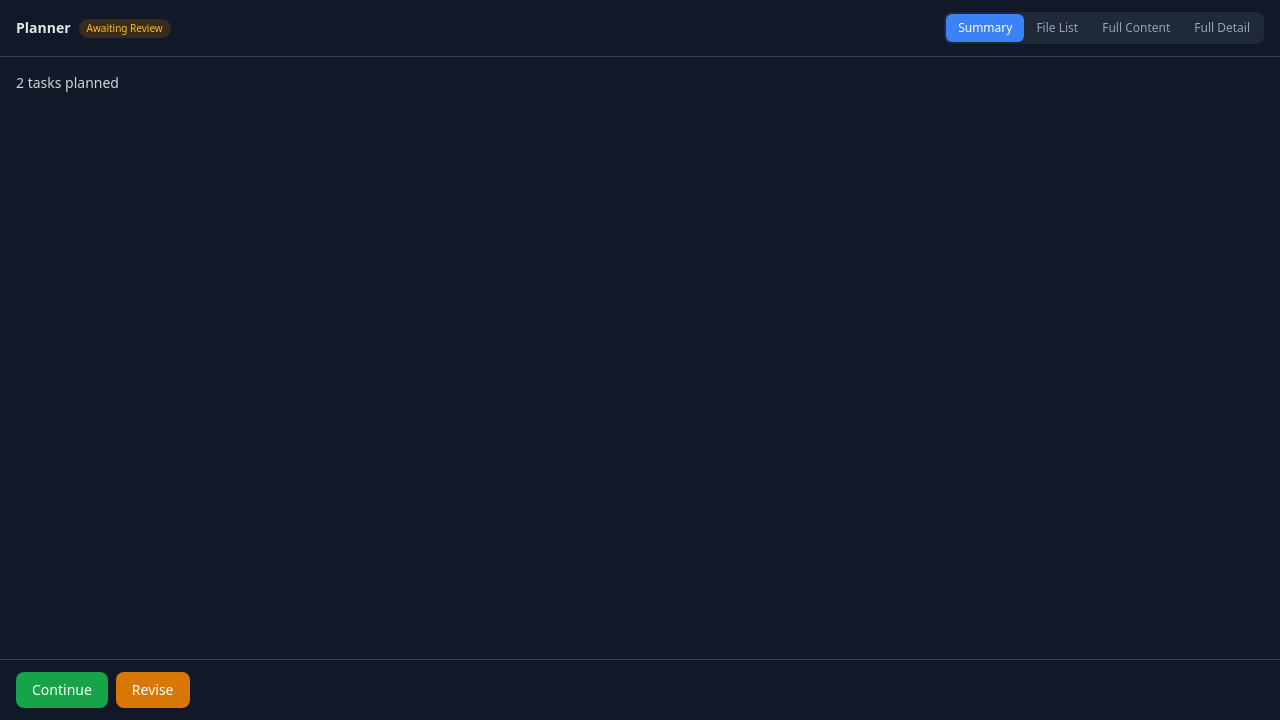
StepGatePanel › renders at full_detail level with plan deliverables
Click the button with test id "scrutiny-option-full_detail".
click(1222, 28)  # box left=1182, top=14, right=1262, bottom=42
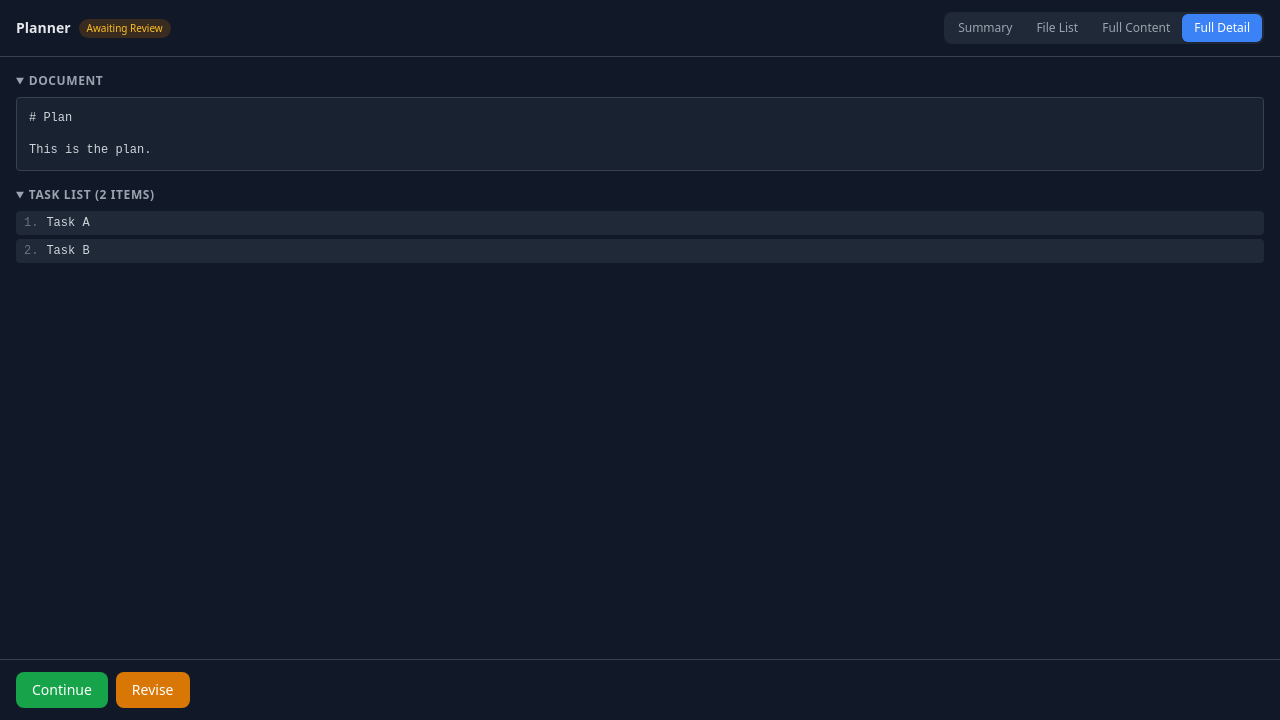
Check: the heading "Document" is shown, box left=29, top=72, right=103, bottom=89
